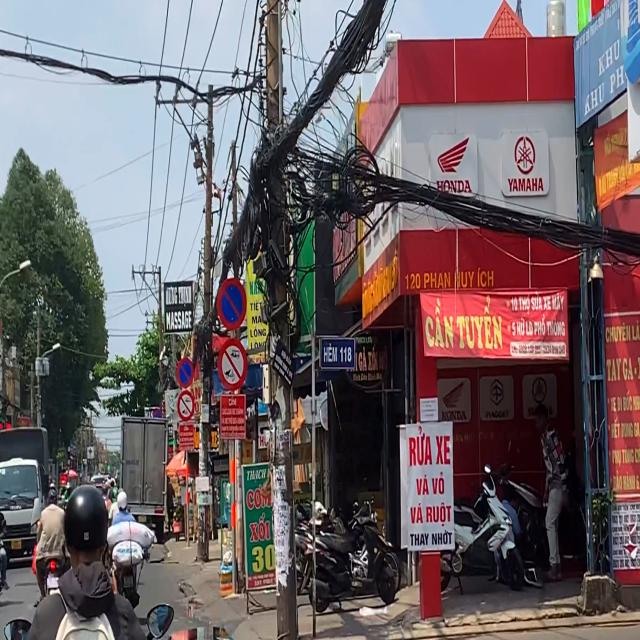Cam con lai: (218, 336, 248, 392), (177, 389, 195, 421)
Cam do: (217, 278, 247, 330), (176, 357, 194, 388)
